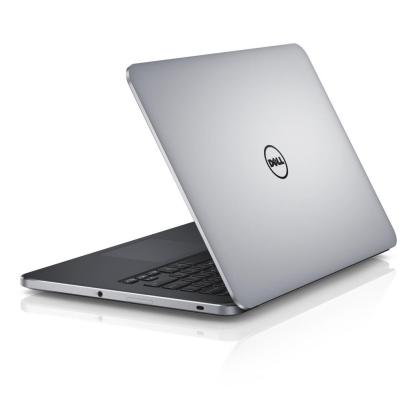board: (21, 38, 396, 318)
